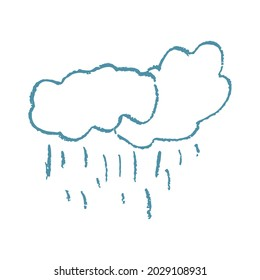cloud: (114, 39, 233, 148), (30, 64, 160, 143)
